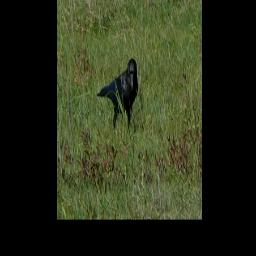Crow: (95, 58, 138, 134)
